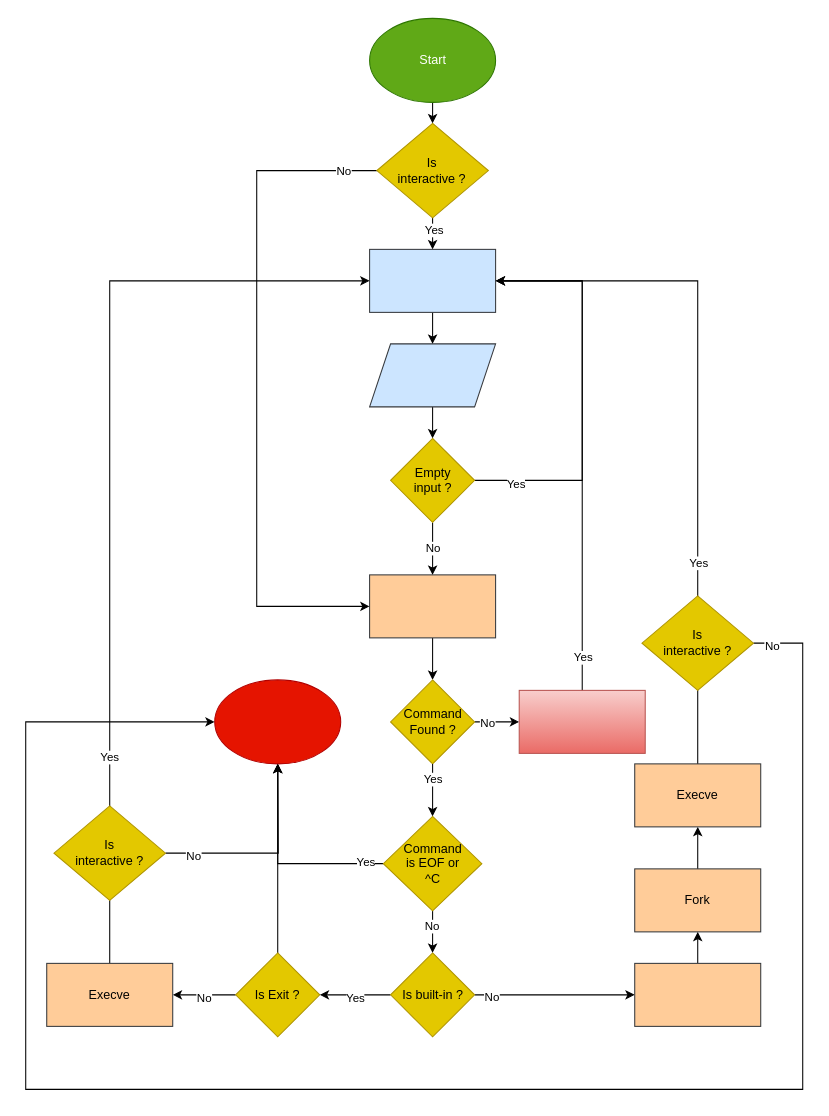
Image size: 829x1116. Some labels were removed from this diagram. Here are the shapes that lost their labels. From the top down, the centre of each, then its label:
At point 432,280: "Display prompt".
At point 432,375: "User input".
At point 432,606: "Tokenization command".
At point 277,721: "Exit".
At point 581,721: "Error Message".
At point 697,994: "Getenv".
